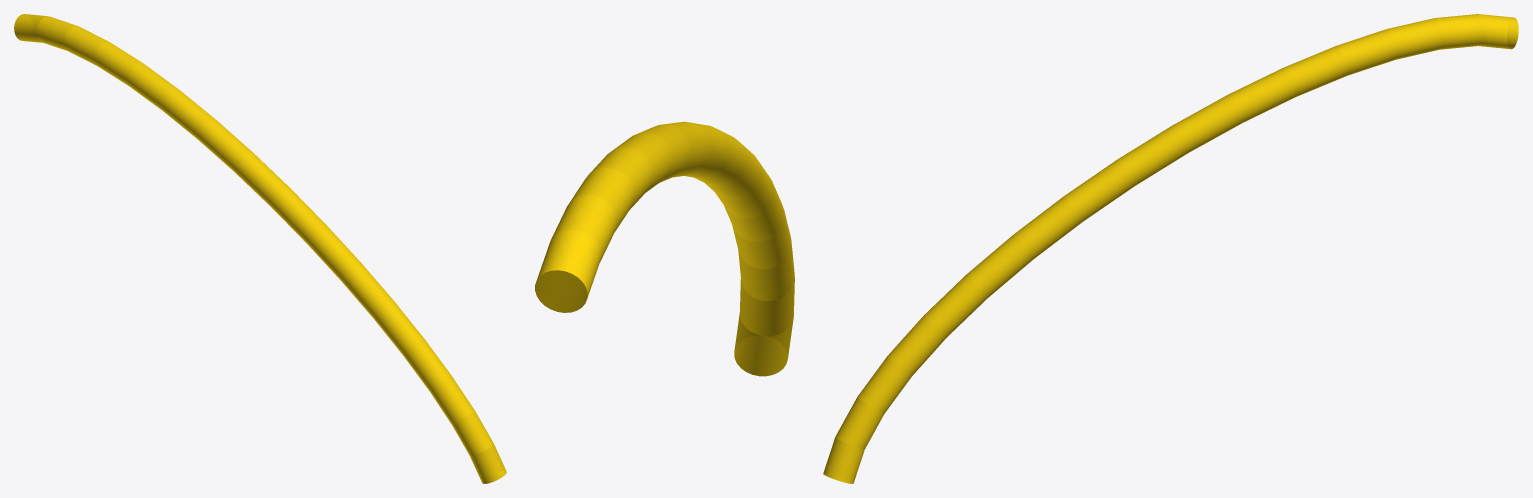
The model's file is Event_420107950_track_58.fbx.
The picture shows the model from 3 angles, left to right: view 1: azimuth 30°, elevation 25°; view 2: azimuth 150°, elevation 25°; view 3: azimuth 270°, elevation 25°; orthographic projection. The views are drawn at different scales.
Parts seen in each view (by area): view 1: Model; view 2: Model; view 3: Model.
Boxes of the visible parts, x1=… form: Model: x1=14, y1=14, x2=506, y2=483; Model: x1=535, y1=121, x2=794, y2=376; Model: x1=823, y1=14, x2=1518, y2=483.
Size of the model in its own units: 0.3548 by 0.5083 by 0.8698.
